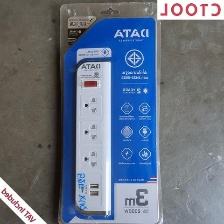book: (61, 14, 159, 223)
three_eye_plug: (72, 55, 116, 219)
